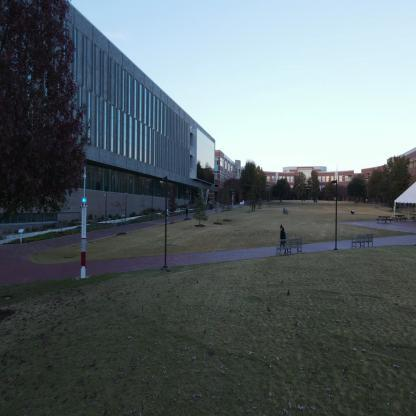EB-1: (217, 135, 243, 229)
Fitts- Woolard: (2, 0, 215, 295)
